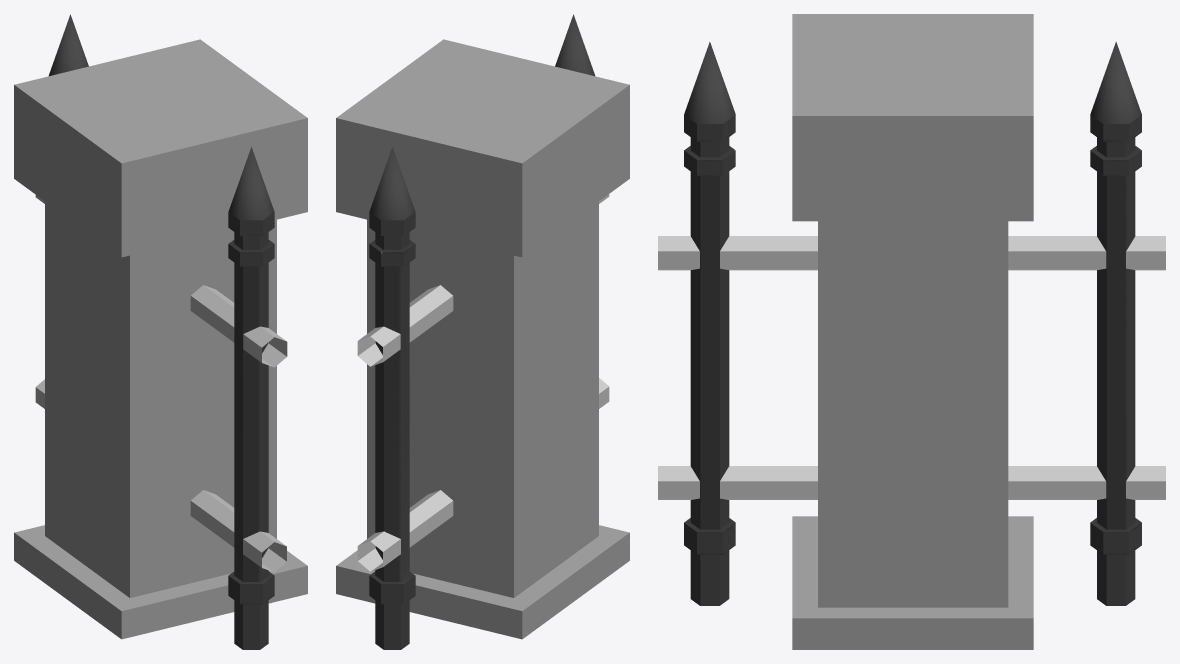
Rendered from Fence_Pillar_Straight.fbx.
The picture shows the model from 3 angles, left to right: view 1: azimuth 30°, elevation 25°; view 2: azimuth 150°, elevation 25°; view 3: azimuth 270°, elevation 25°; orthographic projection. The views are drawn at different scales.
Visible parts, largest first — view 1: polySurface73; view 2: polySurface73; view 3: polySurface73.
Part boxes in pixels (box(x1,y1,x2,y2)): polySurface73: box(14, 14, 307, 649); polySurface73: box(336, 14, 629, 649); polySurface73: box(658, 14, 1165, 649).
Bounding box in the file's own units: 47.5 × 121 × 100.
